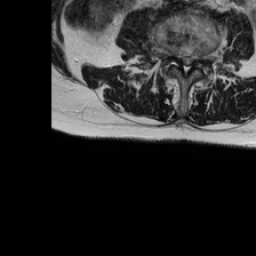CCS_normal: (182, 47, 189, 80)
LFS_severe_stenosis: (197, 50, 204, 66)
LLS_severe_stenosis: (189, 51, 196, 70)
RFS_severe_stenosis: (168, 45, 176, 63)
RLS_severe_stenosis: (176, 52, 182, 69)
